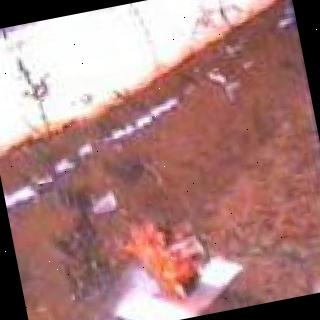fire: (110, 197, 214, 314)
